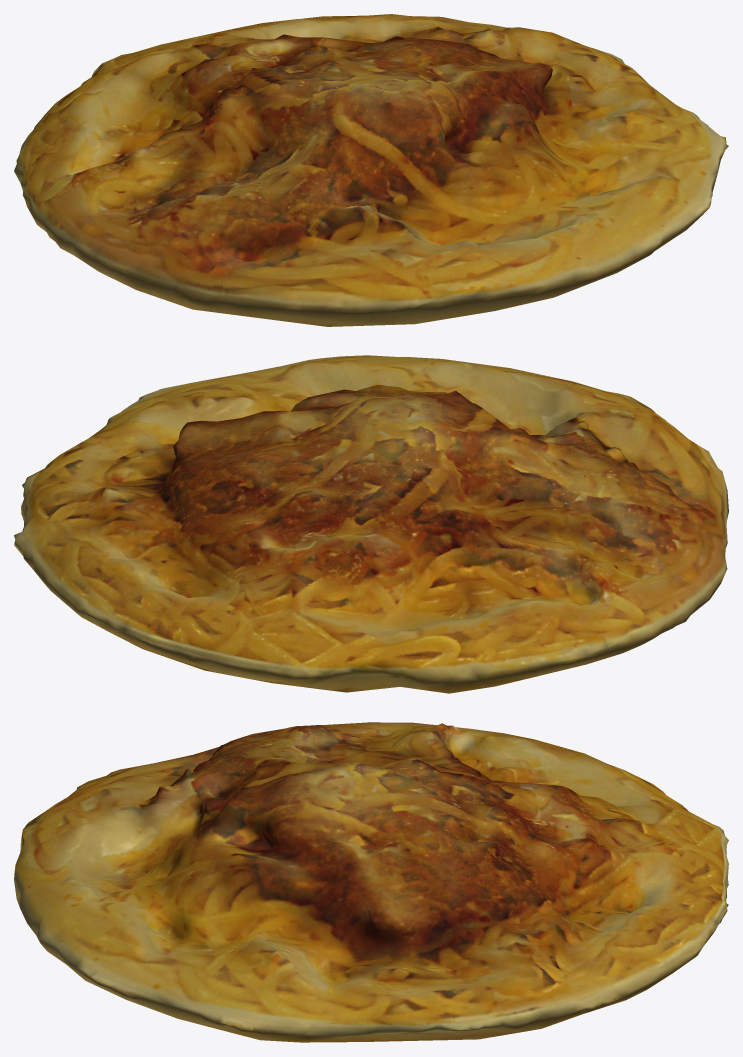
File: spa.fbx
The picture shows the model from 3 angles, top to bottom: view 1: azimuth 30°, elevation 25°; view 2: azimuth 150°, elevation 25°; view 3: azimuth 270°, elevation 25°; orthographic projection. The views are drawn at different scales.
Visible parts, largest first — view 1: group_0.001; view 2: group_0.001; view 3: group_0.001.
Part boxes in pixels (bbox=[...]): group_0.001: bbox=[14, 14, 728, 326]; group_0.001: bbox=[14, 355, 728, 693]; group_0.001: bbox=[14, 722, 728, 1042].
Size of the model in its own units: 68454 by 18458 by 68113.
